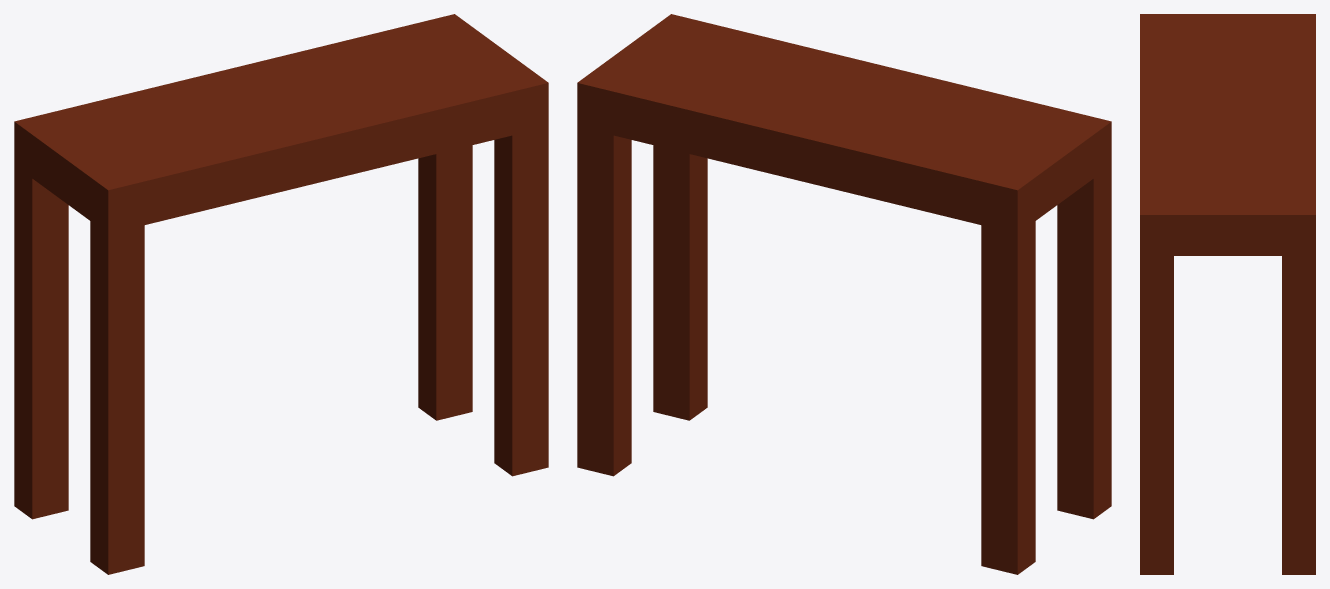
The model's file is table.glb.
3 renders of one model, left to right at view 1: azimuth 30°, elevation 25°; view 2: azimuth 150°, elevation 25°; view 3: azimuth 270°, elevation 25°, orthographic. The views are drawn at different scales.
Visible parts, largest first — view 1: Cube; view 2: Cube; view 3: Cube.
Part boxes in pixels (box(x1,y1,x2,y2)): Cube: box(14, 14, 548, 574); Cube: box(577, 14, 1111, 574); Cube: box(1140, 14, 1315, 574).
Bounding box in the file's own units: 1.35 × 1.13 × 0.5.
1 material, 1 textured.
